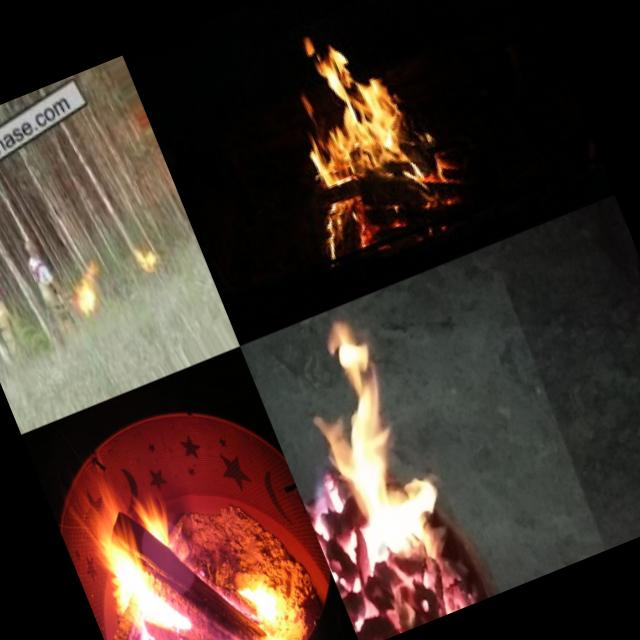fire: (272, 288, 504, 635), (239, 0, 476, 273), (63, 442, 299, 640), (62, 255, 115, 315), (125, 233, 162, 278)
